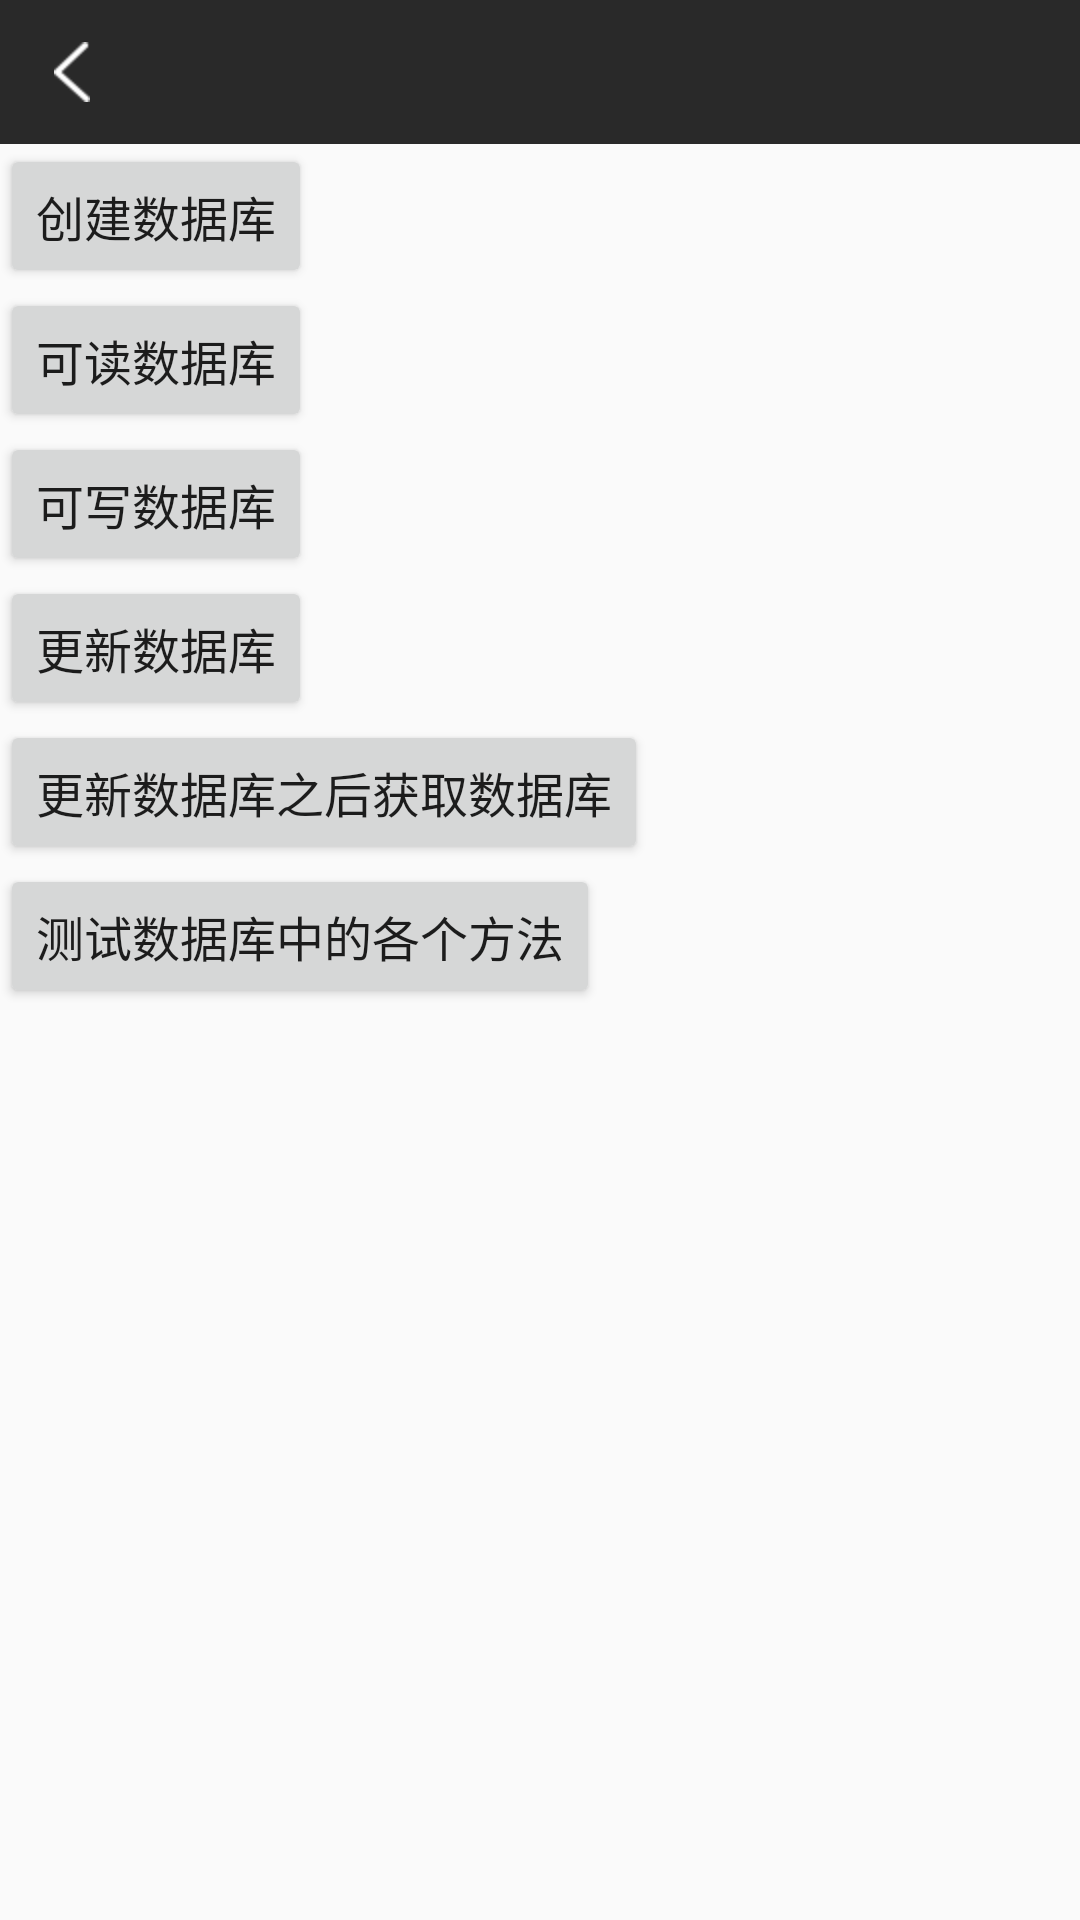

Point at icon controls on the screen. Image size 1080w x 1920h, points as (x,y).
back titlebar: (72,72)
